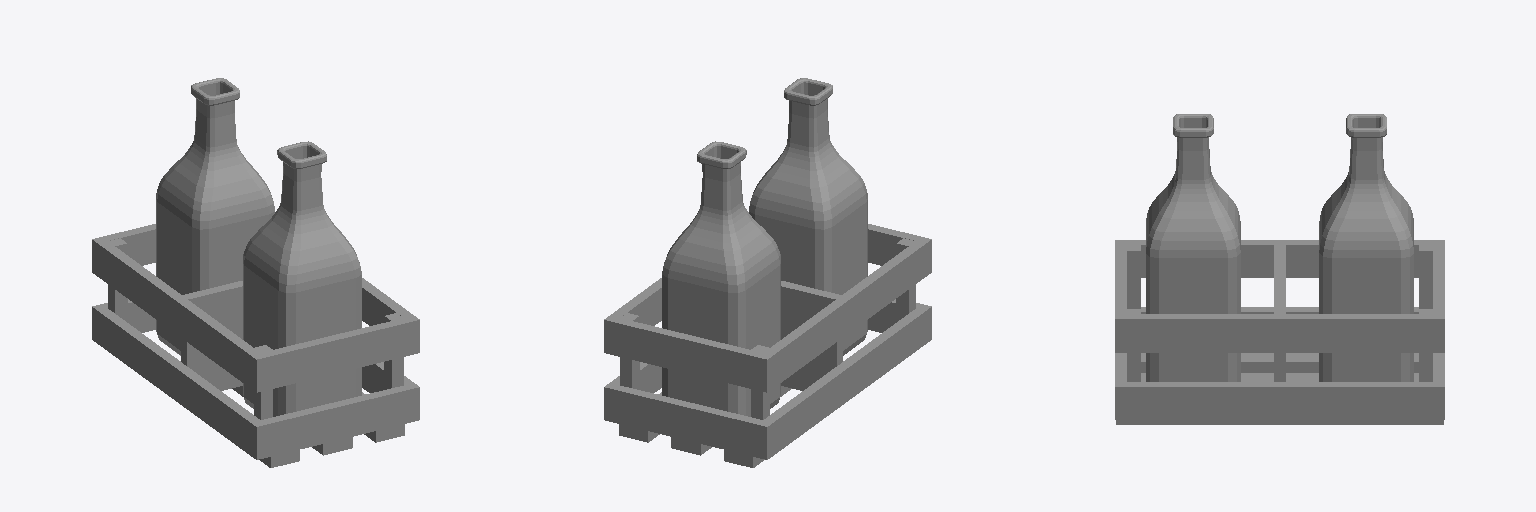
Rendered from Bottles2_blend.obj.
3 views of the same model, side by side, from view 1: azimuth 30°, elevation 25°; view 2: azimuth 150°, elevation 25°; view 3: azimuth 270°, elevation 25° (orthographic).
Parts seen in each view (by area): view 1: bottles; view 2: bottles; view 3: bottles.
Boxes of the visible parts, box(x1,y1,x2,y2) form: bottles: box(92, 78, 419, 467); bottles: box(604, 78, 931, 467); bottles: box(1115, 114, 1444, 424).
Bounding box in the file's own units: 3.2 × 5.08 × 5.58.